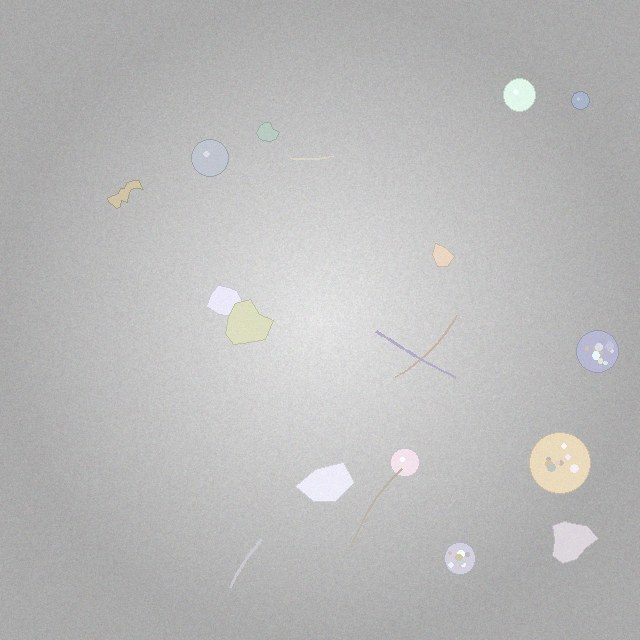fiber: (348, 467, 404, 550), (373, 328, 459, 381), (393, 313, 459, 380), (227, 536, 265, 591), (287, 154, 336, 163)
film: (107, 180, 143, 209)
foam: (530, 432, 591, 493), (577, 330, 618, 372), (444, 543, 475, 574)
fragment: (295, 463, 355, 502), (226, 299, 273, 345), (552, 521, 599, 563), (206, 286, 242, 316), (432, 244, 455, 266), (257, 123, 280, 142)
pellet: (192, 139, 229, 176), (503, 79, 536, 111), (391, 448, 419, 477), (571, 92, 589, 109)
